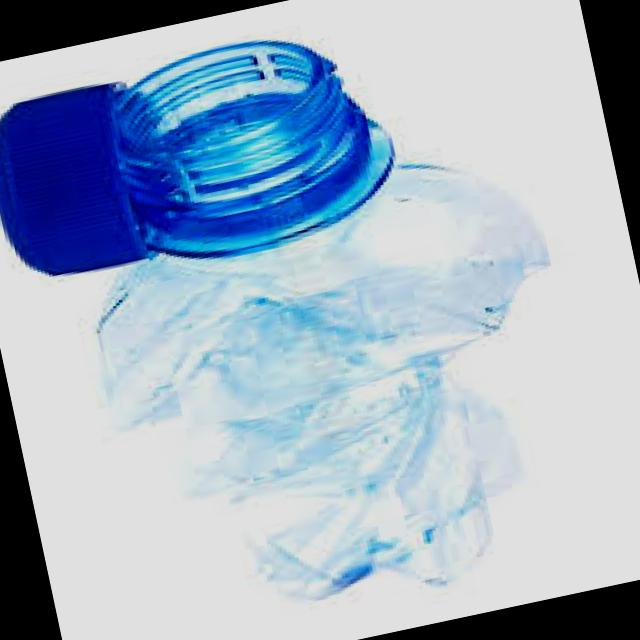bottle: (99, 41, 545, 596)
plastic: (114, 40, 392, 257), (0, 82, 147, 275)
